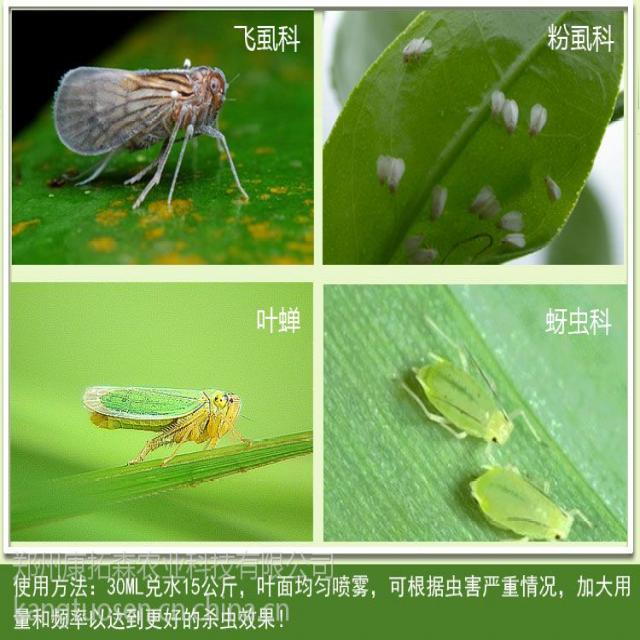Yechan: (80, 378, 243, 453)
